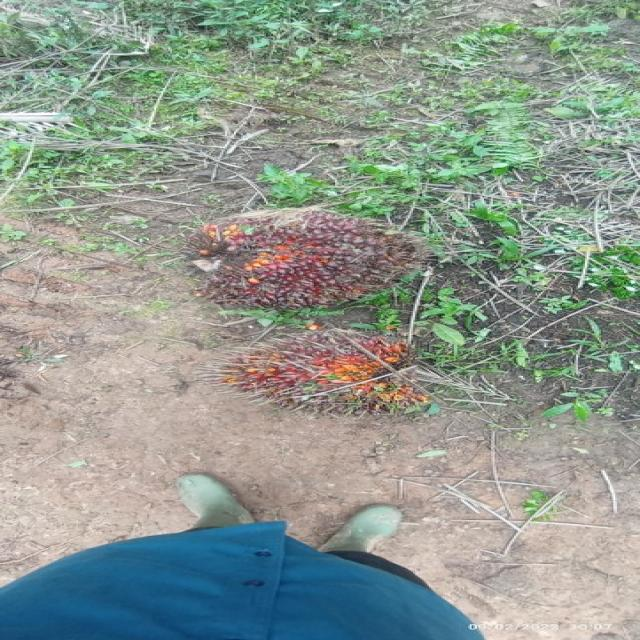fraksi 1: (155, 190, 457, 326)
fraksi 3: (205, 315, 453, 431)
